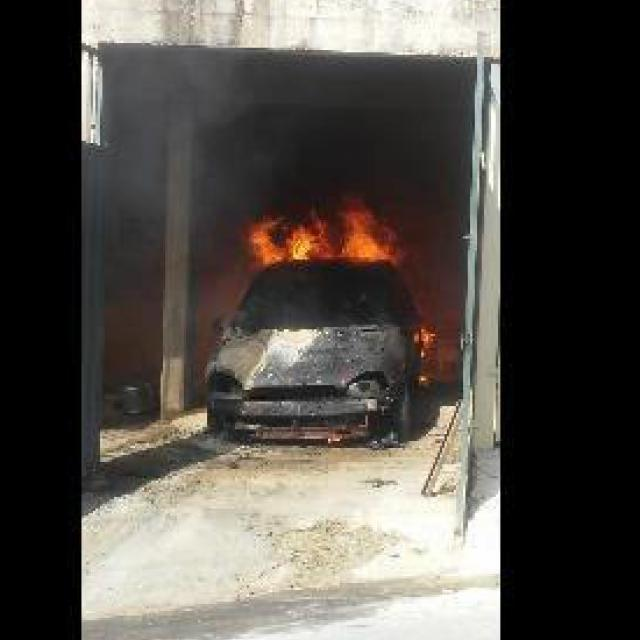fire: (245, 190, 402, 266), (414, 322, 444, 354)
